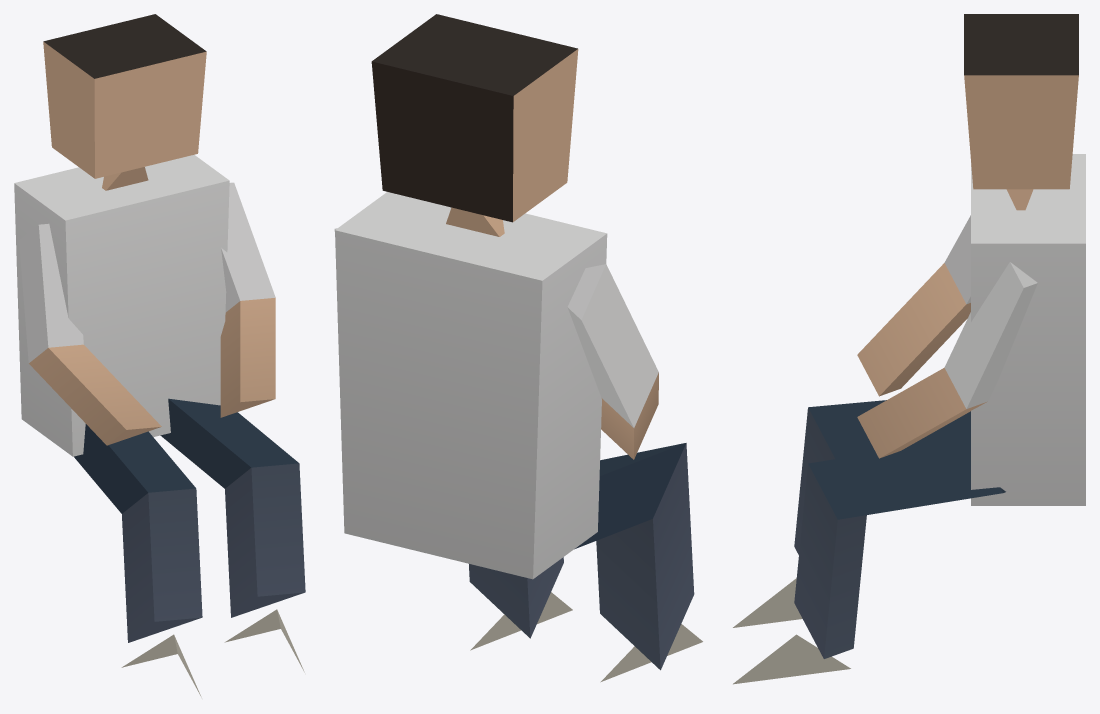
Rendered from fan-01.glb.
3 renders of one model, left to right at view 1: azimuth 30°, elevation 25°; view 2: azimuth 150°, elevation 25°; view 3: azimuth 270°, elevation 25°, orthographic. The views are drawn at different scales.
Visible parts, largest first — view 1: fan-01; view 2: fan-01; view 3: fan-01.
Part boxes in pixels (<box>): fan-01: <box>14,14,305,697</box>; fan-01: <box>334,14,702,682</box>; fan-01: <box>733,14,1085,684</box>.
Bounding box in the file's own units: 0.6675 × 1.47 × 0.77.
